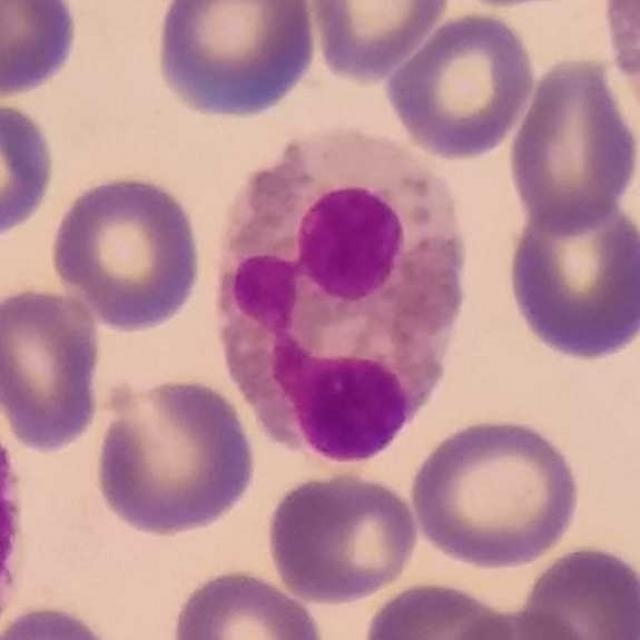eosino: (217, 127, 467, 465)
